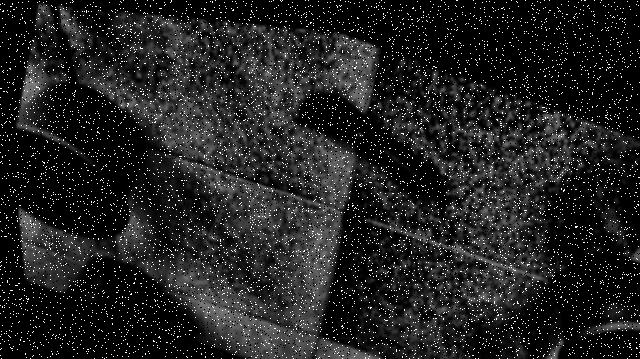pot: (12, 80, 145, 237), (555, 254, 640, 359)
